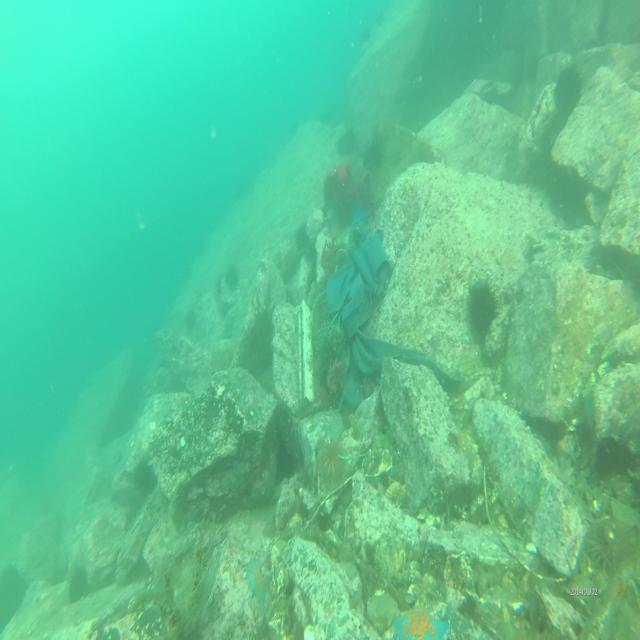echinus: (590, 514, 633, 572), (466, 281, 500, 338), (553, 64, 584, 113), (320, 439, 346, 481), (365, 137, 383, 174), (337, 128, 356, 156), (225, 265, 241, 290), (296, 224, 311, 249)
starfish: (392, 598, 450, 640), (242, 558, 272, 598)
